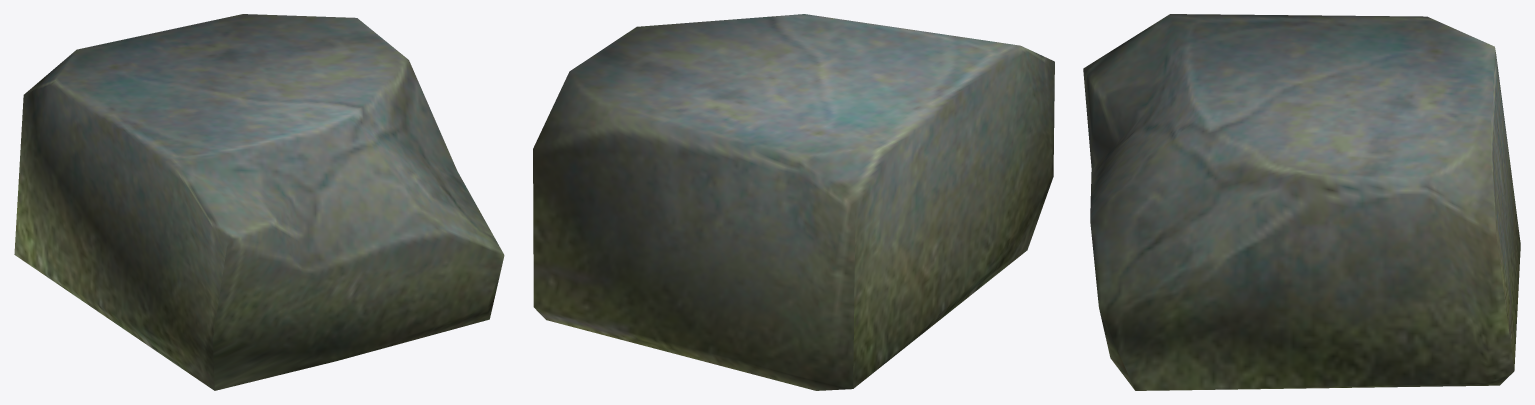
The model's file is wlf_shitou15_w.FBX.
The picture shows the model from 3 angles, left to right: view 1: azimuth 30°, elevation 25°; view 2: azimuth 150°, elevation 25°; view 3: azimuth 270°, elevation 25°; orthographic projection. The views are drawn at different scales.
Parts seen in each view (by area): view 1: wlf_shitou15_w; view 2: wlf_shitou15_w; view 3: wlf_shitou15_w.
Boxes of the visible parts, x1=… form: wlf_shitou15_w: x1=14, y1=14, x2=504, y2=390; wlf_shitou15_w: x1=533, y1=14, x2=1054, y2=390; wlf_shitou15_w: x1=1083, y1=14, x2=1520, y2=390.
Size of the model in its own units: 14.92 by 9.89 by 17.53.
